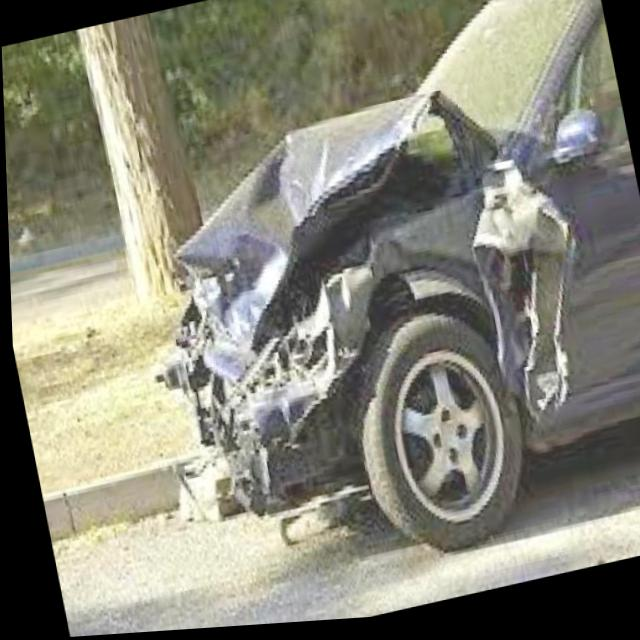Car-Damage: (110, 67, 612, 529)
